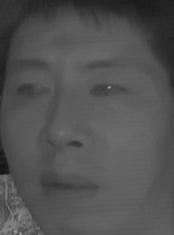eye: (86, 78, 130, 103), (10, 78, 53, 103)
mouth: (38, 165, 101, 204)
